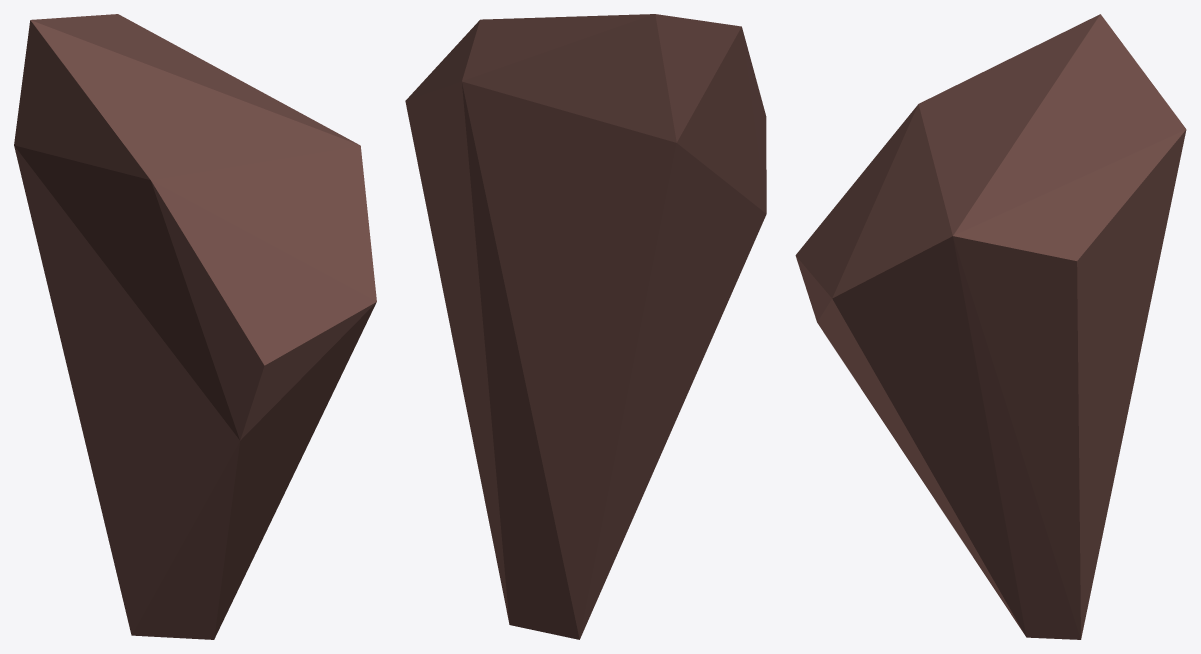
Rendered from CommonTree_Dead_Snow_2.lod4.glb.
3 views of the same model, side by side, from view 1: azimuth 30°, elevation 25°; view 2: azimuth 150°, elevation 25°; view 3: azimuth 270°, elevation 25° (orthographic). The views are drawn at different scales.
Parts seen in each view (by area): view 1: CommonTree_Dead_Snow_2; view 2: CommonTree_Dead_Snow_2; view 3: CommonTree_Dead_Snow_2.
Boxes of the visible parts, x1,y1,x2,y2 form: CommonTree_Dead_Snow_2: [14, 14, 376, 639]; CommonTree_Dead_Snow_2: [405, 14, 766, 639]; CommonTree_Dead_Snow_2: [795, 14, 1186, 639].
Size of the model in its own units: 1.33 by 2.96 by 1.87.
